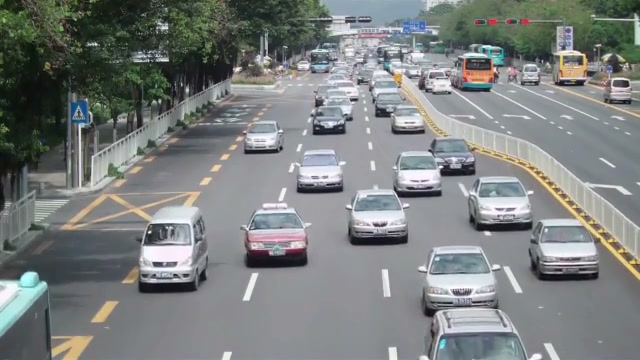bus: (0, 270, 53, 358), (452, 52, 494, 91)
car: (136, 205, 209, 292), (417, 245, 502, 316), (421, 307, 528, 360), (527, 218, 600, 280), (240, 205, 312, 267), (466, 176, 534, 231), (345, 188, 410, 245), (292, 148, 345, 193), (392, 150, 443, 196), (428, 137, 476, 176), (243, 121, 285, 153), (312, 106, 346, 135), (390, 106, 425, 134), (603, 77, 633, 104), (520, 64, 541, 86)
truck: (552, 50, 588, 86)
